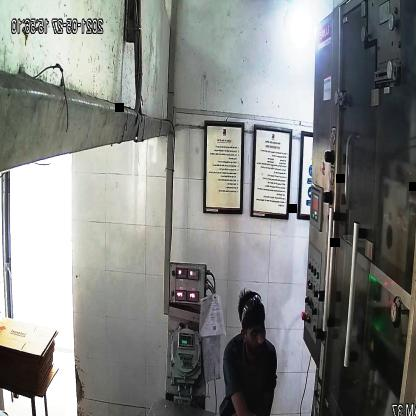no_goggles: (241, 320, 270, 342)
